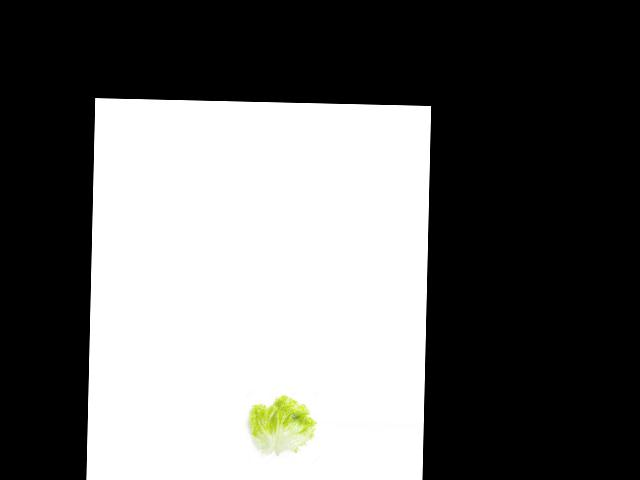lettuce: (242, 396, 318, 458)
